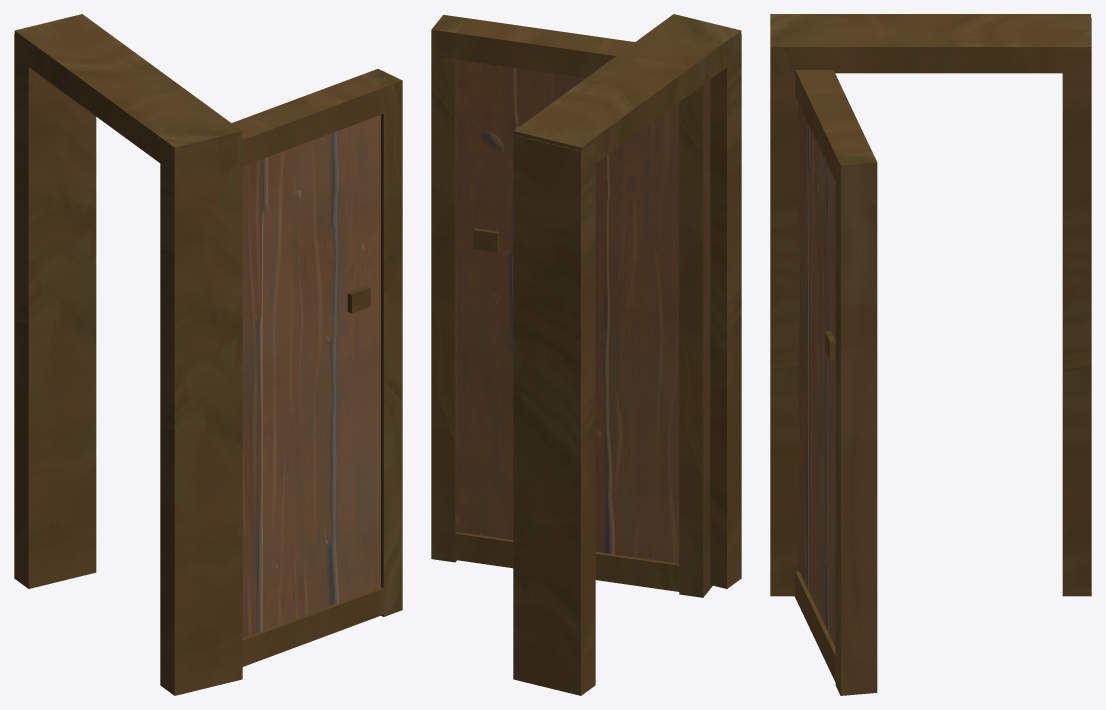
Rendered from porta3A.fbx.
3 views of the same model, side by side, from view 1: azimuth 30°, elevation 25°; view 2: azimuth 150°, elevation 25°; view 3: azimuth 270°, elevation 25° (orthographic).
Parts seen in each view (by area): view 1: Cube.145, Cube.014, Cube.088, Cube.135, Cube.141, Cube.144, Cube.142; view 2: Cube.145, Cube.088, Cube.014, Cube.143, Cube.135, Cube.141, Cube.144, Cube.142, Cube.139; view 3: Cube.141, Cube.135, Cube.145, Cube.088, Cube.014, Cube.144, Cube.142.
Part boxes in pixels (<box>): Cube.145: <box>242,115,380,638</box>; Cube.014: <box>160,134,242,695</box>; Cube.088: <box>14,34,96,588</box>; Cube.135: <box>14,14,242,171</box>; Cube.141: <box>359,69,402,616</box>; Cube.144: <box>232,76,398,165</box>; Cube.142: <box>242,587,383,666</box>; Cube.145: <box>456,59,679,563</box>; Cube.088: <box>513,135,595,695</box>; Cube.014: <box>710,34,741,588</box>; Cube.143: <box>679,85,712,597</box>; Cube.135: <box>513,14,741,173</box>; Cube.141: <box>431,15,466,562</box>; Cube.144: <box>432,18,710,94</box>; Cube.142: <box>432,530,679,591</box>; Cube.139: <box>473,228,498,252</box>; Cube.141: <box>835,152,877,695</box>; Cube.135: <box>770,14,1090,73</box>; Cube.145: <box>799,105,835,646</box>; Cube.088: <box>1062,17,1091,596</box>; Cube.014: <box>770,50,799,596</box>; Cube.144: <box>795,70,872,180</box>; Cube.142: <box>794,571,835,682</box>.
Bounding box in the file's own units: 312 × 626 × 330.
